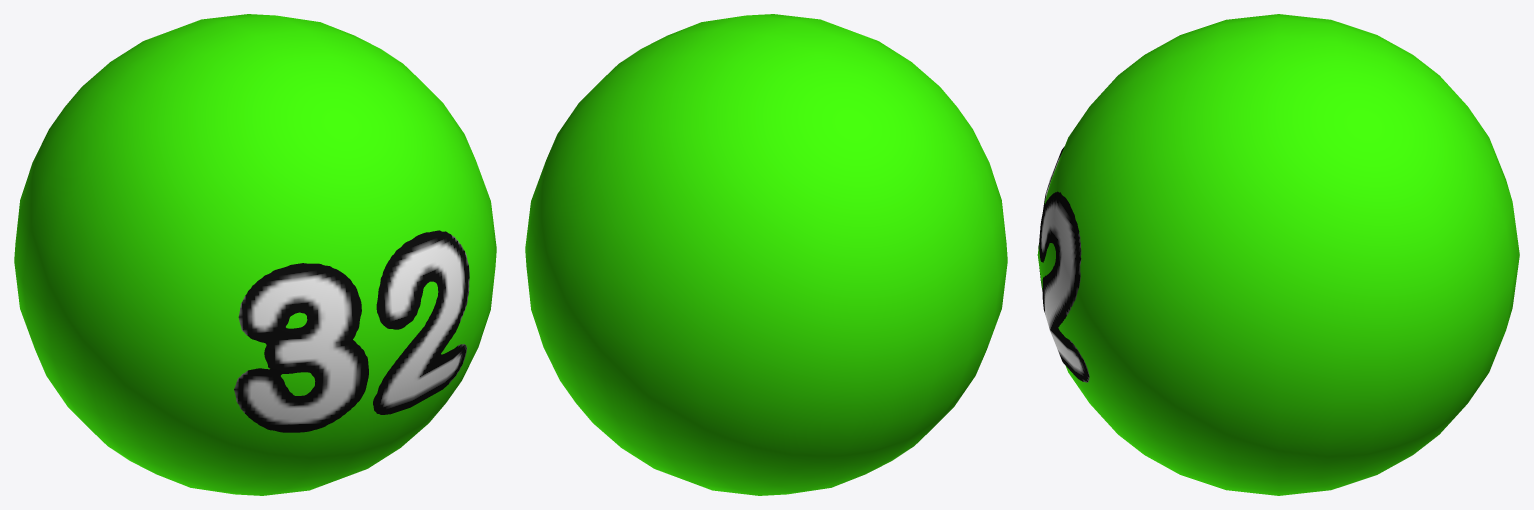
Rendered from Ball 32.fbx.
3 renders of one model, left to right at view 1: azimuth 30°, elevation 25°; view 2: azimuth 150°, elevation 25°; view 3: azimuth 270°, elevation 25°, orthographic.
Parts seen in each view (by area): view 1: Ball 32; view 2: Ball 32; view 3: Ball 32.
Part boxes in pixels (x1,y1,x2,y2): Ball 32: (14, 14, 496, 495); Ball 32: (525, 14, 1007, 495); Ball 32: (1037, 14, 1519, 495).
Bounding box in the file's own units: 164 × 164 × 164.
